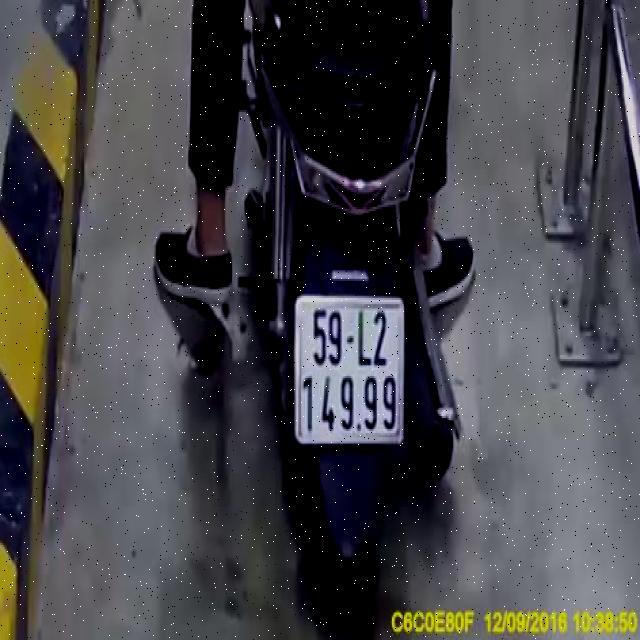5: (311, 307, 326, 364)
9: (327, 312, 344, 366)
L: (357, 307, 371, 364)
